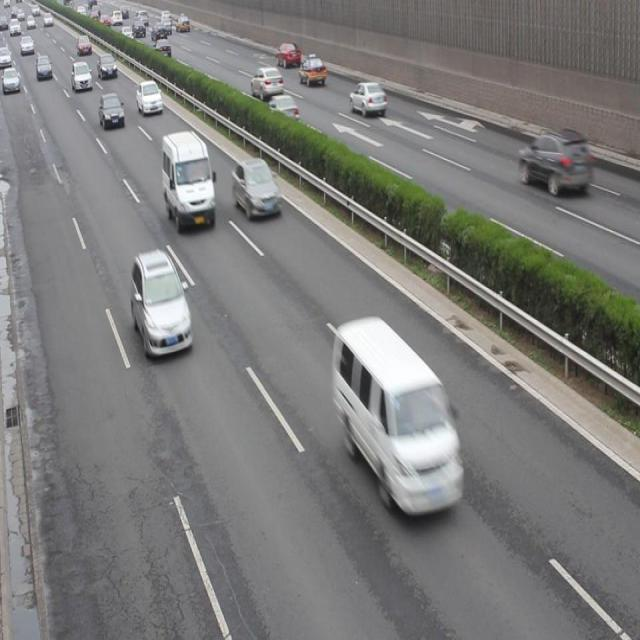car: (130, 248, 192, 358), (515, 126, 591, 196), (232, 157, 280, 220), (349, 79, 385, 119), (263, 93, 299, 130), (251, 66, 284, 100), (99, 92, 125, 132), (137, 80, 164, 118), (297, 55, 325, 86), (276, 40, 301, 70)
truck: (333, 314, 464, 518), (161, 130, 215, 233)
